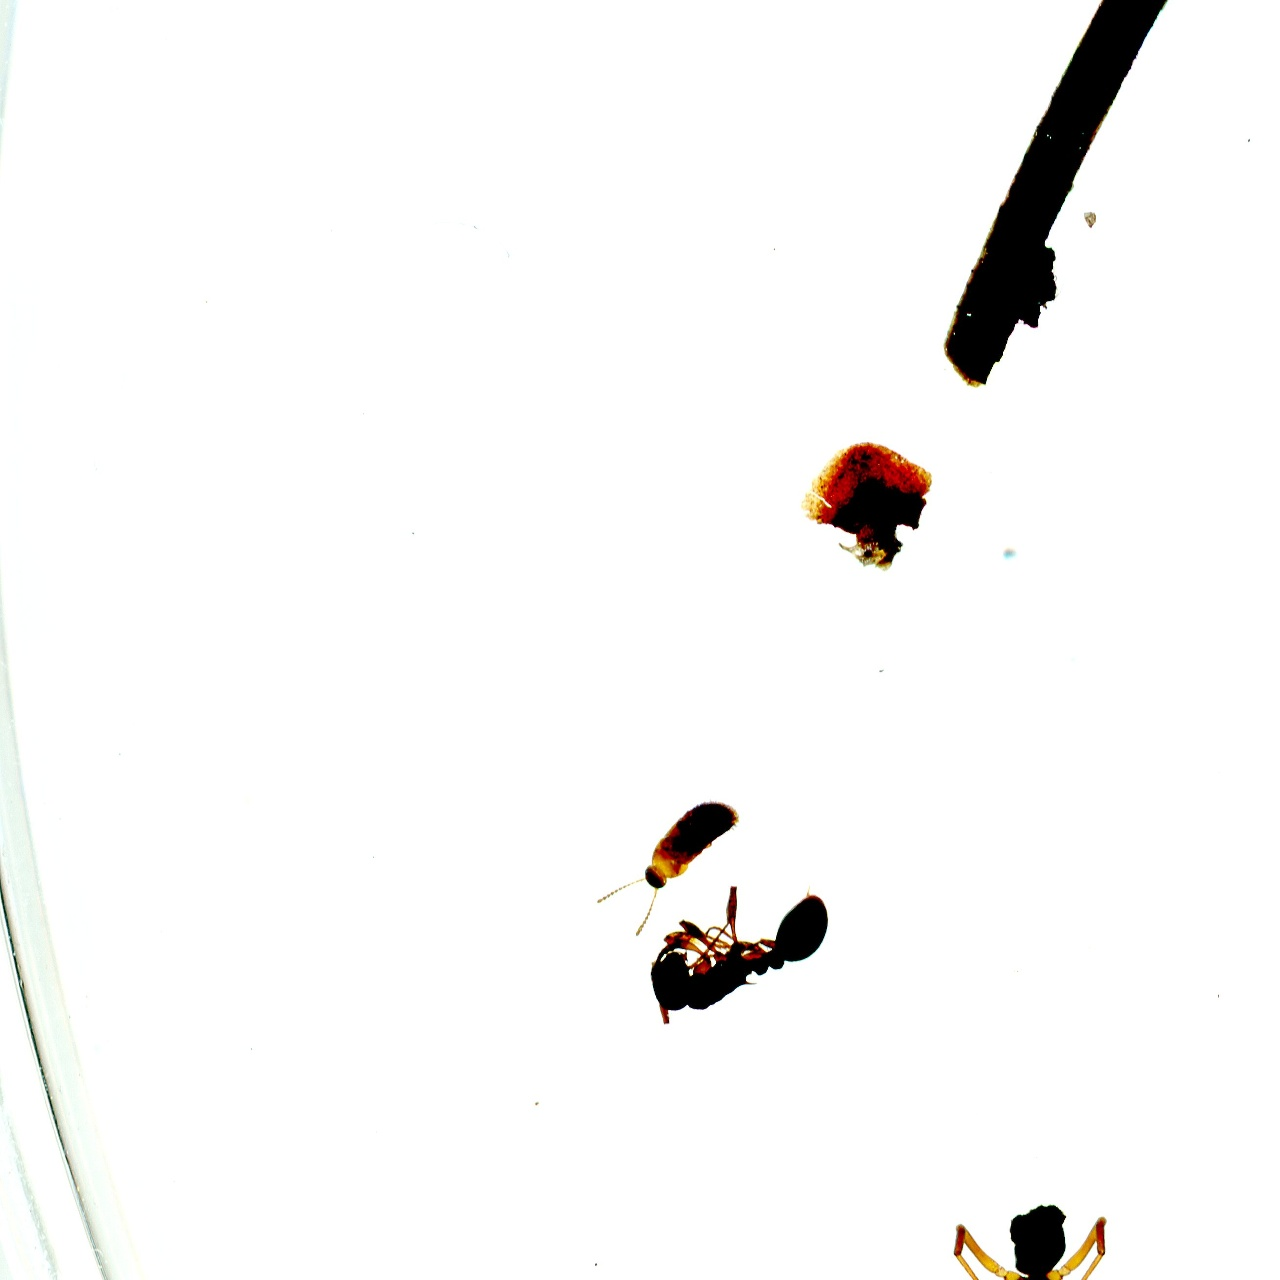arthropod: (614, 846, 852, 1037), (587, 769, 755, 949), (938, 1186, 1142, 1280)
